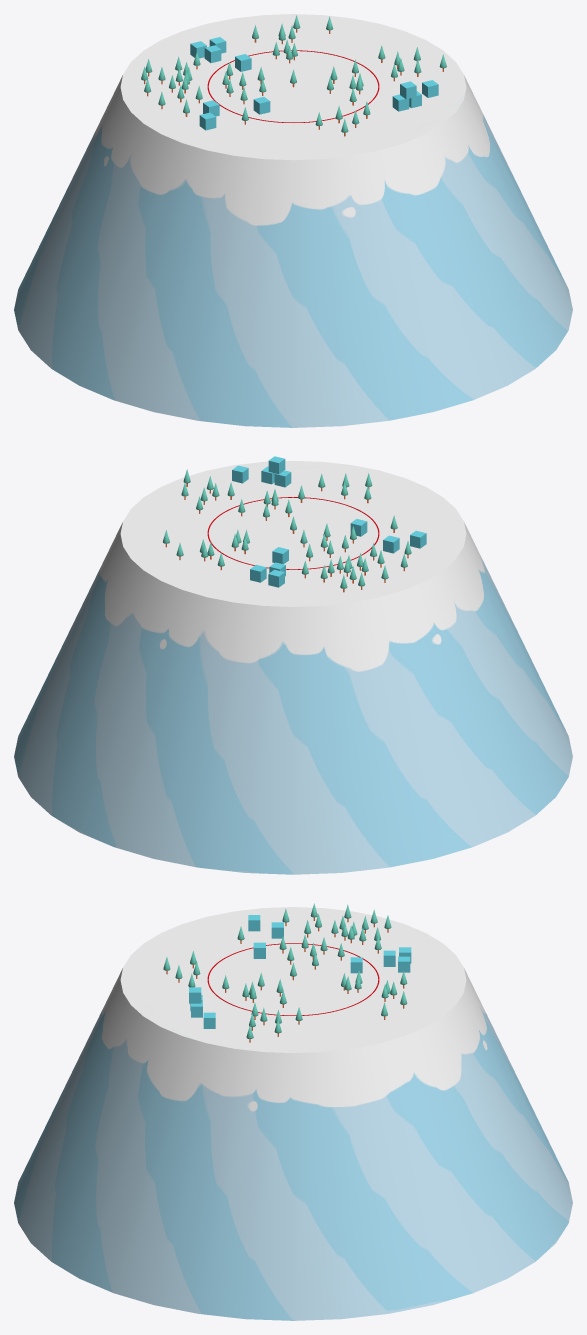
The model's file is demo-scene.glb.
3 renders of one model, top to bottom at view 1: azimuth 30°, elevation 25°; view 2: azimuth 150°, elevation 25°; view 3: azimuth 270°, elevation 25°, orthographic.
Visible parts, largest first — view 1: mount; view 2: mount; view 3: mount.
Part boxes in pixels (x1,y1,x2,y2): mount: [14, 14, 572, 427]; mount: [14, 460, 572, 874]; mount: [14, 907, 572, 1320].
Bounding box in the file's own units: 45.86 × 22.17 × 45.86.
6 materials, 1 textured.
